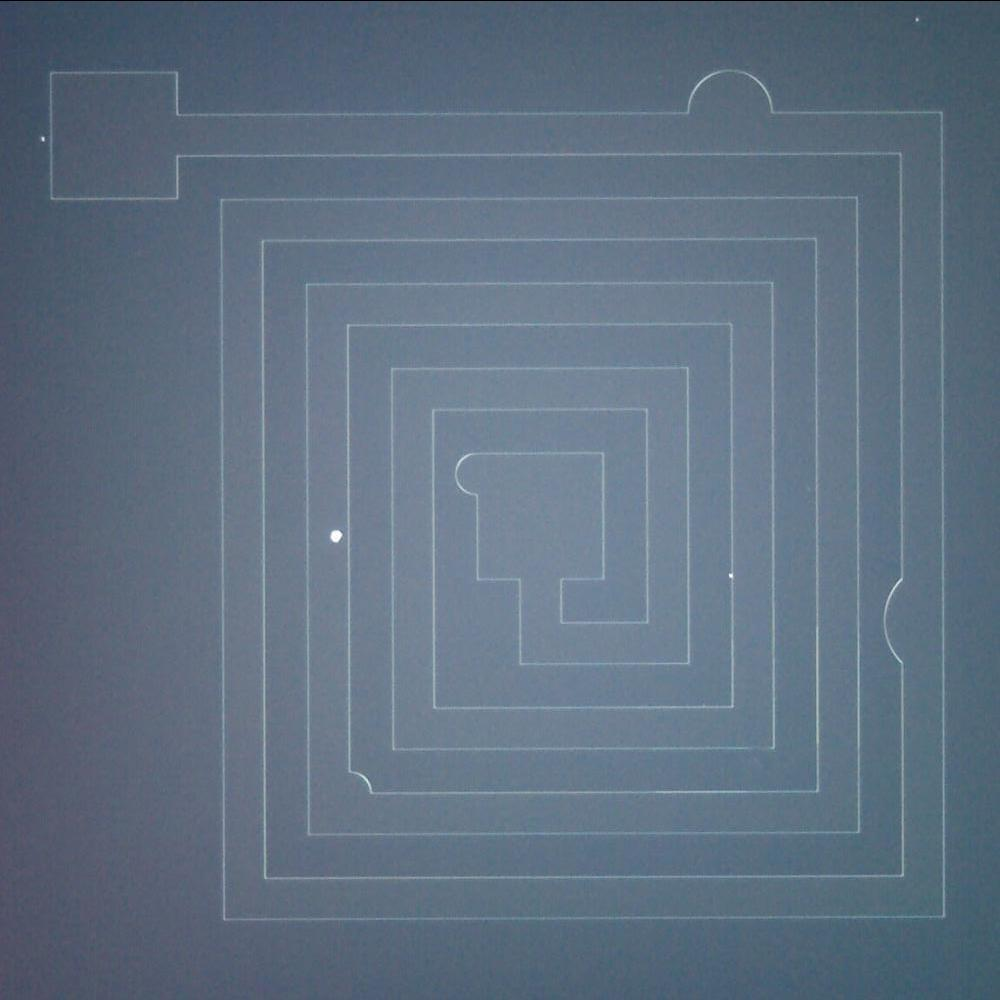curve circuit: (678, 62, 792, 132), (878, 565, 914, 676), (446, 446, 492, 506), (340, 758, 381, 804)
dot: (897, 2, 933, 35), (716, 558, 743, 586), (28, 125, 52, 155)
spot: (317, 518, 353, 552)
